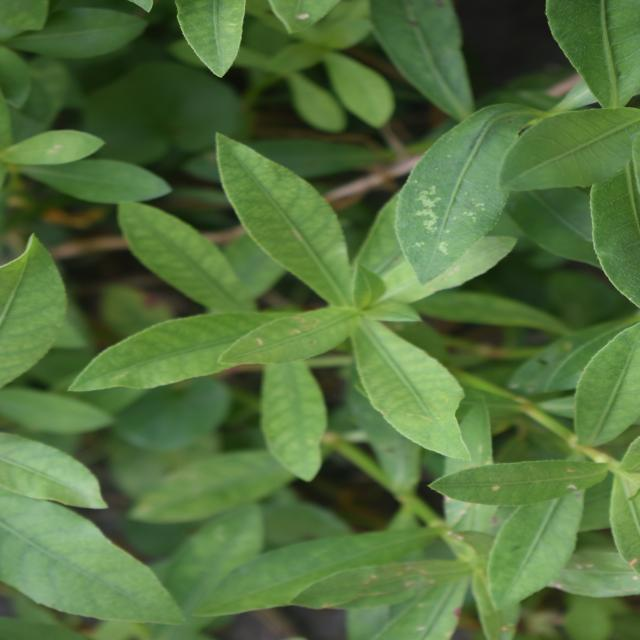Alligatorweed: (167, 83, 501, 527)
